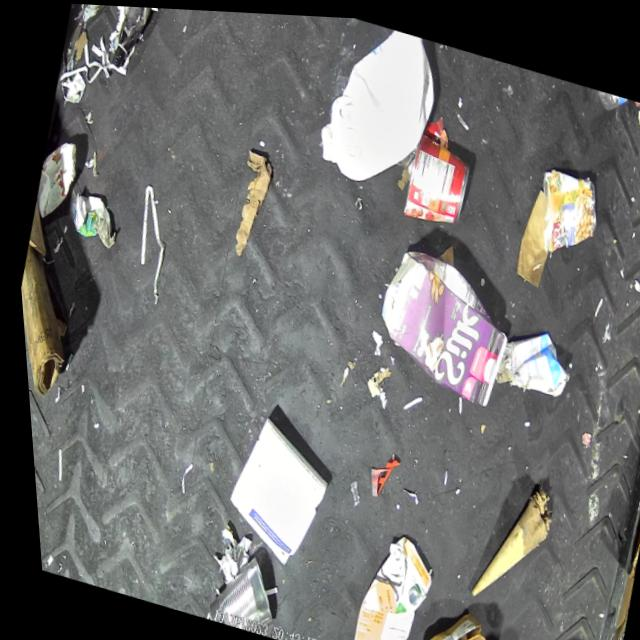can: (520, 157, 605, 258), (392, 126, 476, 228), (190, 541, 277, 635), (24, 134, 81, 225)
milk_jug: (301, 12, 451, 196)
non_white_jug: (357, 234, 521, 405), (326, 517, 434, 640)
